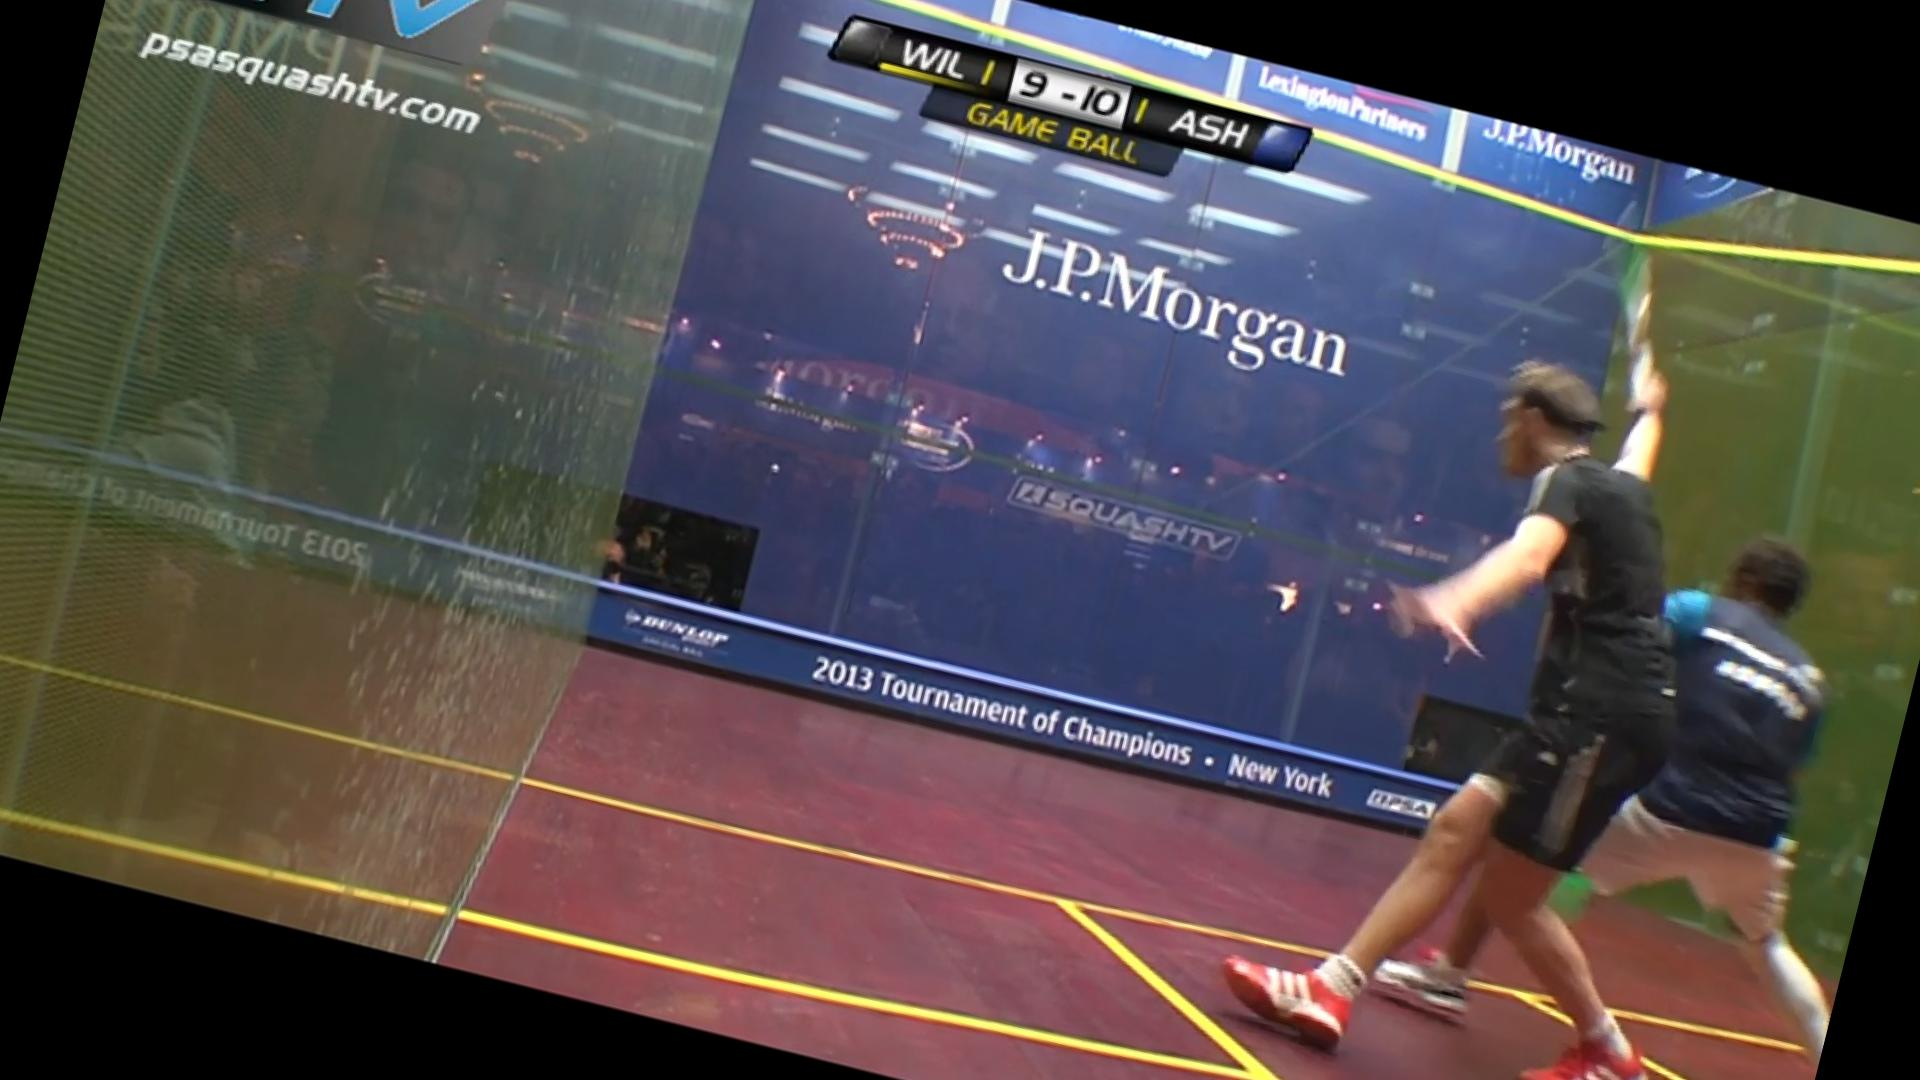Squash-Ball: (761, 454, 796, 483)
